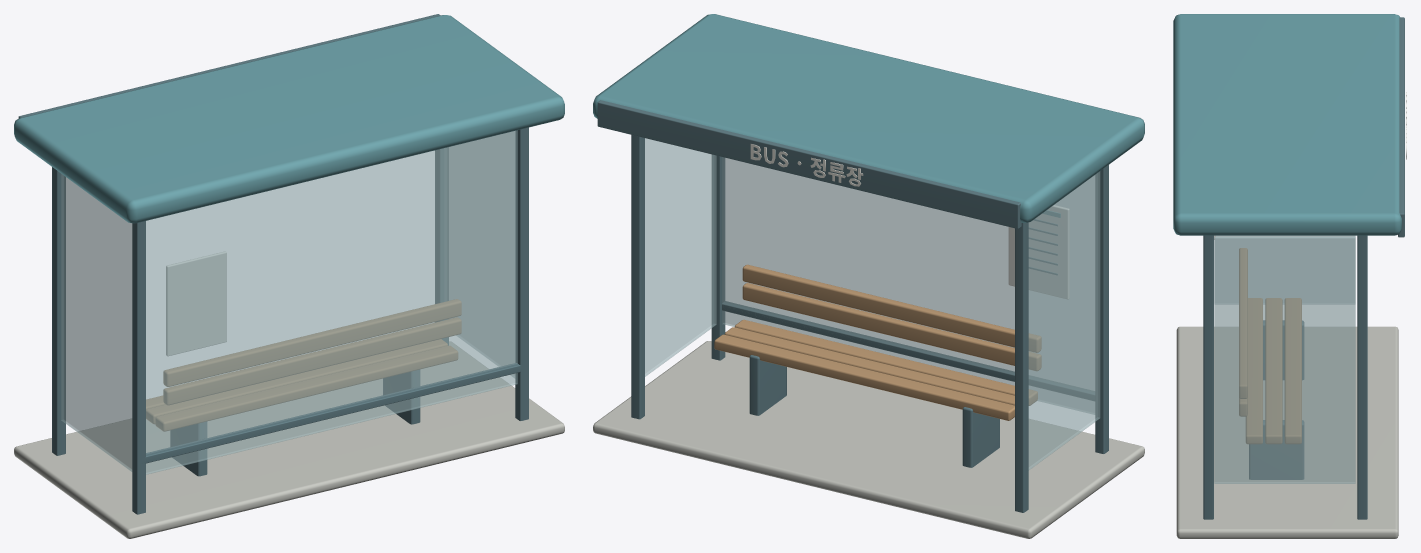
File: service-stop-shelter.glb
3 renders of one model, left to right at view 1: azimuth 30°, elevation 25°; view 2: azimuth 150°, elevation 25°; view 3: azimuth 270°, elevation 25°, orthographic. The views are drawn at different scales.
Parts seen in each view (by area): view 1: Rear glass, Roof, Shelter pad, Side glass, Side glass.001, Timetable panel, Bench back slat.001, Bench back slat, Bench slat, Rear glass rail, Shelter column, Shelter column.002 (+6 smaller); view 2: Roof, Shelter pad, Rear glass, Side glass, Side glass.001, Roof front band, Bench back slat.001, Bench back slat, Bench slat.002, Shelter column.001, Shelter column, Shelter column.003 (+8 smaller); view 3: Roof, Side glass.001, Shelter pad, Side glass, Shelter column.003, Shelter column.002, Bench slat.001, Bench slat.002, Bench slat, Bench foot.001, Bench back slat.001, Roof front band (+1 smaller).
Boxes of the visible parts, box(x1,y1,x2,y2) form: Rear glass: box(146, 130, 517, 474); Roof: box(14, 15, 564, 223); Shelter pad: box(14, 341, 564, 538); Side glass: box(61, 174, 132, 471); Side glass.001: box(444, 131, 514, 377); Timetable panel: box(166, 251, 226, 355); Bench back slat.001: box(163, 299, 461, 386); Bench back slat: box(163, 317, 461, 404); Bench slat: box(155, 346, 457, 431); Rear glass rail: box(140, 363, 521, 463); Shelter column: box(132, 221, 145, 514); Shelter column.002: box(515, 127, 528, 420); Roof: box(593, 14, 1144, 222); Shelter pad: box(593, 341, 1144, 538); Rear glass: box(722, 157, 1094, 414); Side glass: box(1028, 171, 1100, 469); Side glass.001: box(645, 138, 716, 376); Roof front band: box(597, 100, 1021, 228); Bench back slat.001: box(742, 264, 1041, 352); Bench back slat: box(742, 283, 1041, 370); Bench slat.002: box(714, 334, 1014, 420); Shelter column.001: box(1015, 222, 1028, 512); Shelter column: box(1095, 165, 1108, 453); Shelter column.003: box(631, 135, 644, 419); Roof: box(1173, 14, 1401, 235); Side glass.001: box(1214, 236, 1355, 483); Shelter pad: box(1176, 326, 1398, 538); Side glass: box(1214, 235, 1355, 304); Shelter column.003: box(1357, 235, 1367, 519); Shelter column.002: box(1203, 235, 1213, 519); Bench slat.001: box(1265, 298, 1282, 443); Bench slat.002: box(1285, 298, 1301, 443); Bench slat: box(1246, 298, 1262, 443); Bench foot.001: box(1249, 420, 1303, 479); Bench back slat.001: box(1239, 248, 1247, 398); Roof front band: box(1398, 17, 1404, 237).
Bounding box in the file's own units: 3.5 × 2.58 × 1.68.
